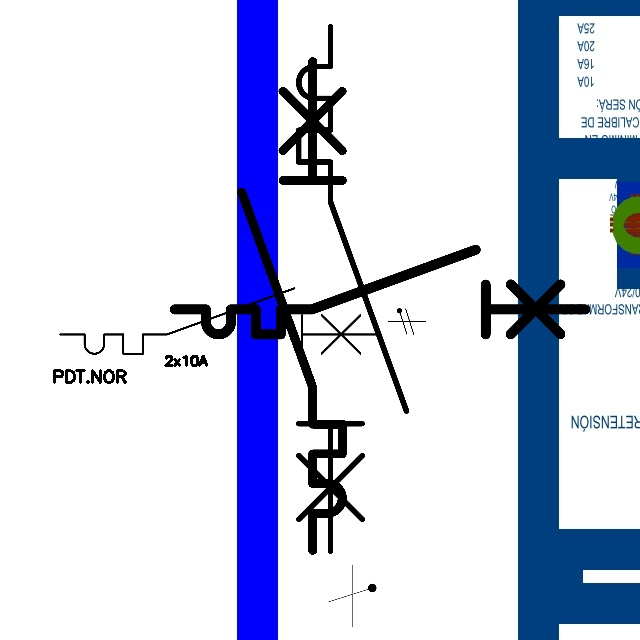interruptor_termomagnetico: (285, 13, 420, 564), (229, 49, 355, 563), (164, 239, 596, 345), (52, 280, 388, 362)
